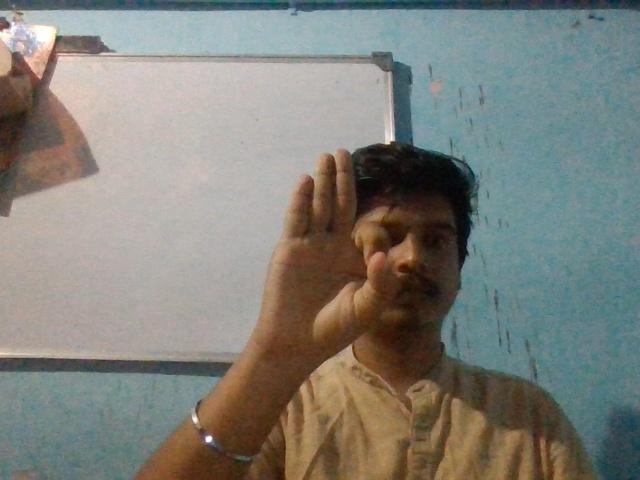Chin: (252, 140, 405, 366)
